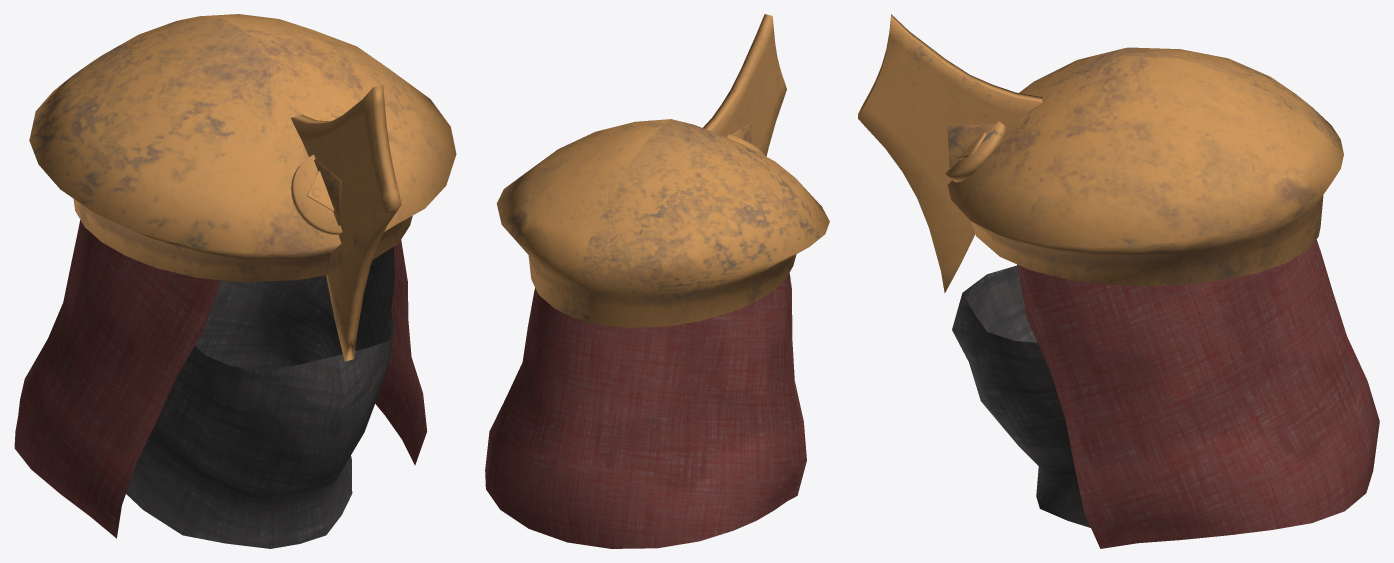
File: easterlingwarriors03_helmet.fbx
The picture shows the model from 3 angles, left to right: view 1: azimuth 30°, elevation 25°; view 2: azimuth 150°, elevation 25°; view 3: azimuth 270°, elevation 25°; orthographic projection. The views are drawn at different scales.
Parts seen in each view (by area): view 1: easterlingwarriors03_helmet; view 2: easterlingwarriors03_helmet; view 3: easterlingwarriors03_helmet.
Part boxes in pixels (x1,y1,x2,y2): easterlingwarriors03_helmet: (14,14,456,548); easterlingwarriors03_helmet: (485,14,829,548); easterlingwarriors03_helmet: (858,14,1379,548).
Bounding box in the file's own units: 0.2854 × 0.3733 × 0.3789.
Materials: 1 (1 with a texture image).
